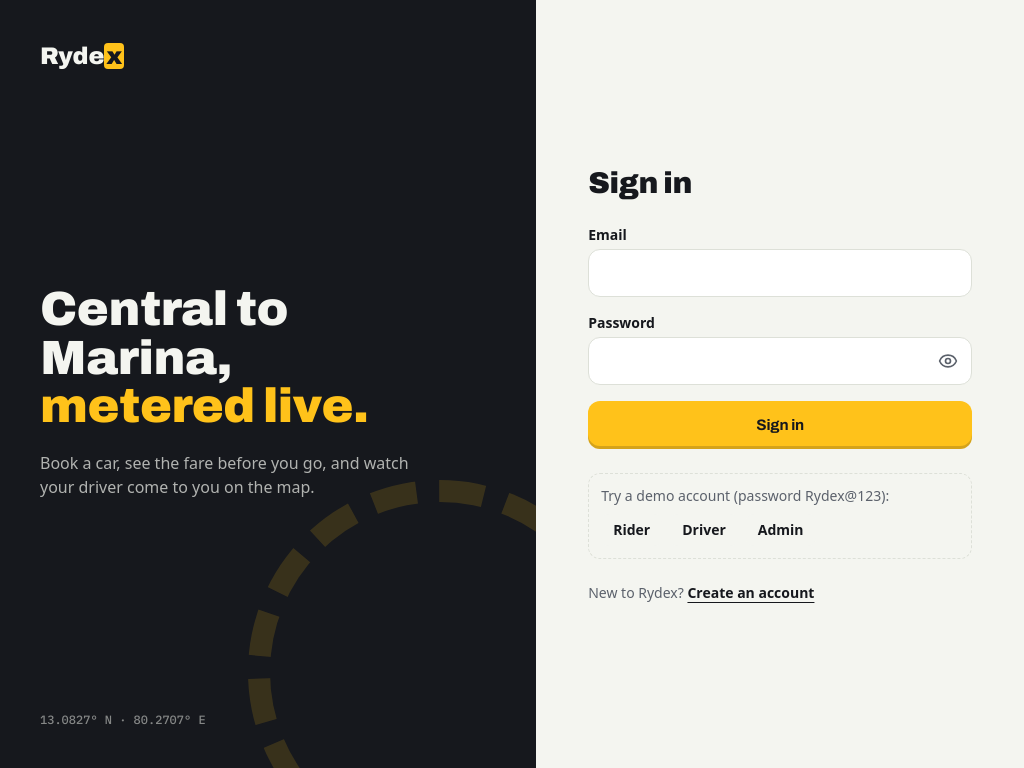
Test case: sign-in and sign-up › shows and hides the password
This screenshot has width=1024, height=768.
Type "Secret123" into the password field labelled "Password".
click(780, 361); type("Secret123")  # box [588,337,972,385]
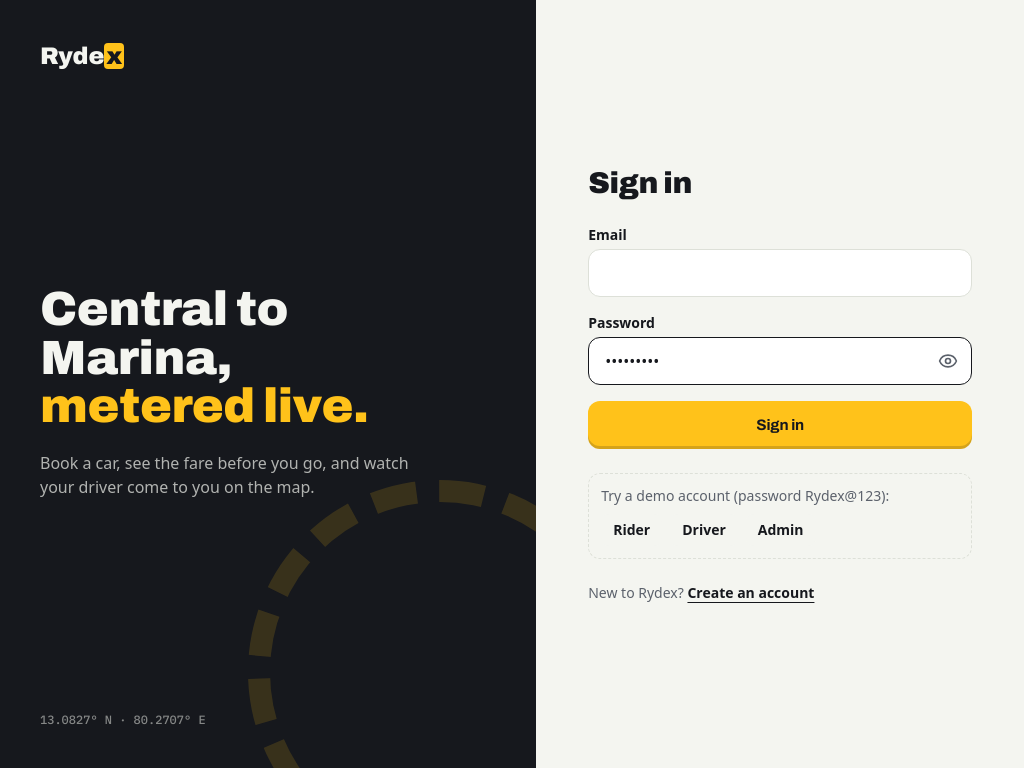
Click the button named "Show password".
click(948, 361)  # box [924,337,972,385]
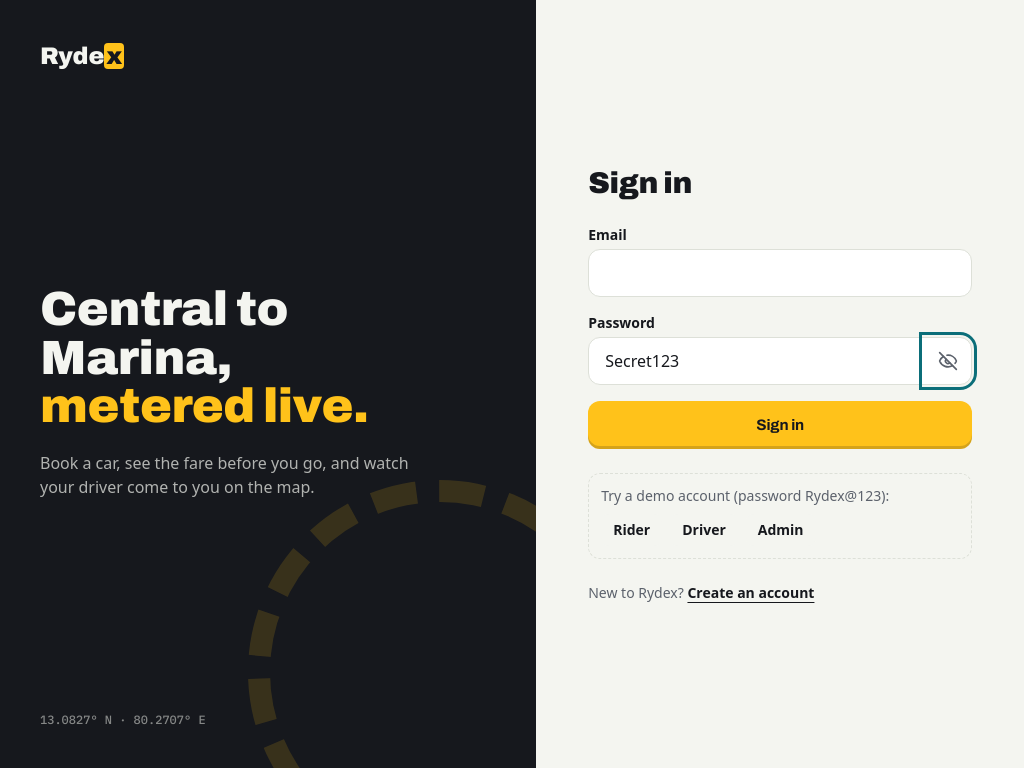
Check: the field labelled "Password" shows its text, box [588,337,972,385]
Click the button named "Hide password".
click(948, 361)  # box [924,337,972,385]
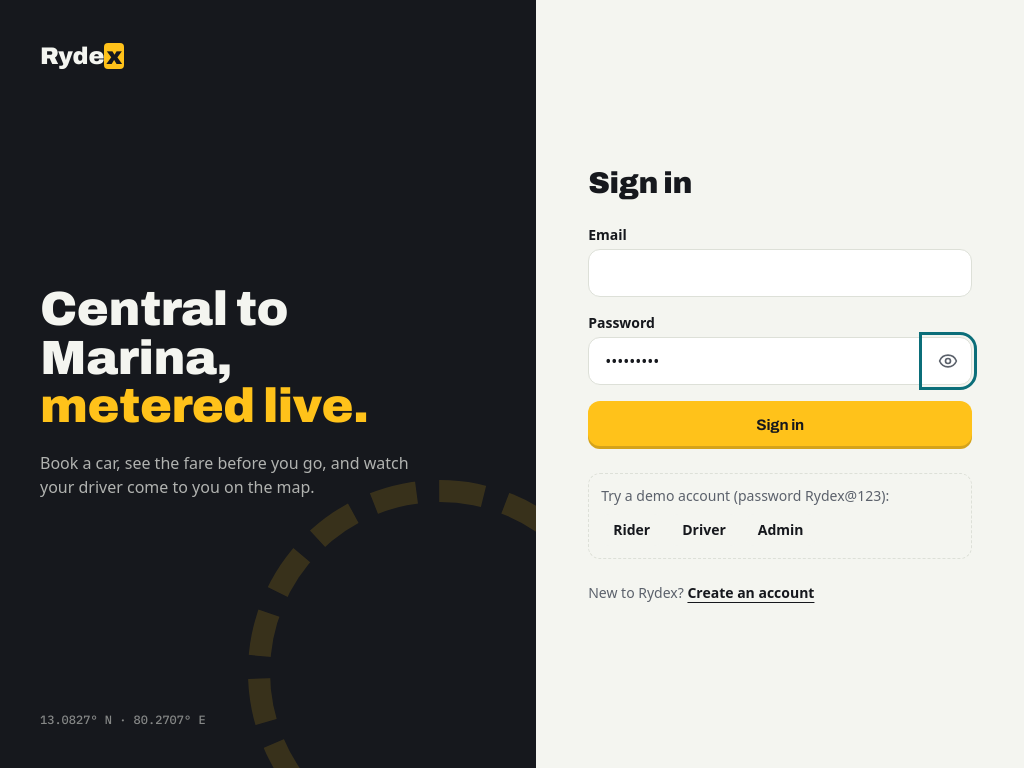
Check: the password field labelled "Password" hides its text, box [588,337,972,385]
